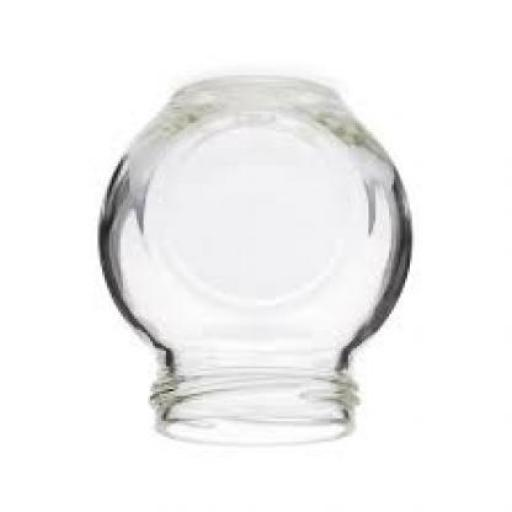glass: (102, 77, 416, 446)
